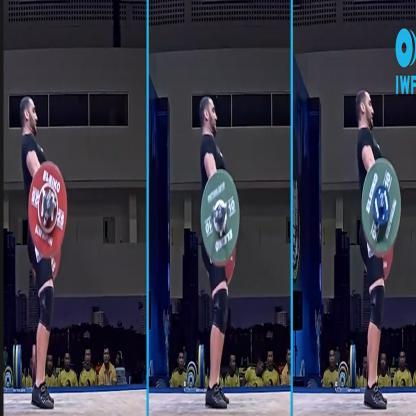Barbell: (379, 187, 388, 214), (216, 204, 226, 226), (45, 196, 54, 217)
